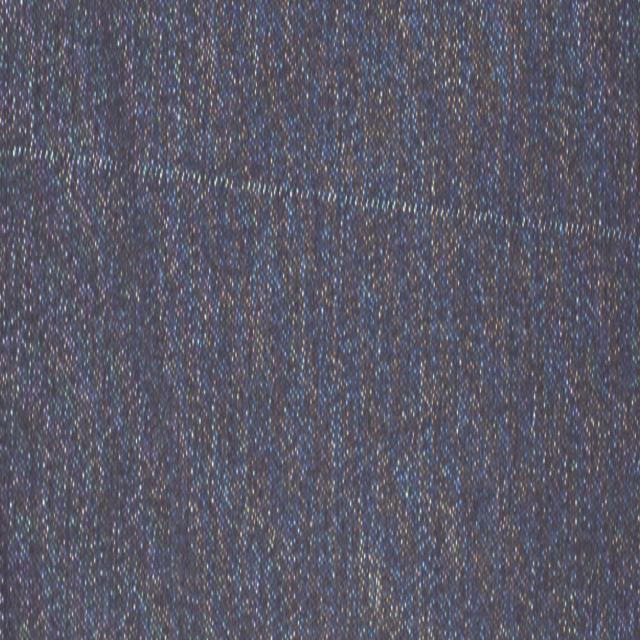Line: (0, 138, 638, 255)
